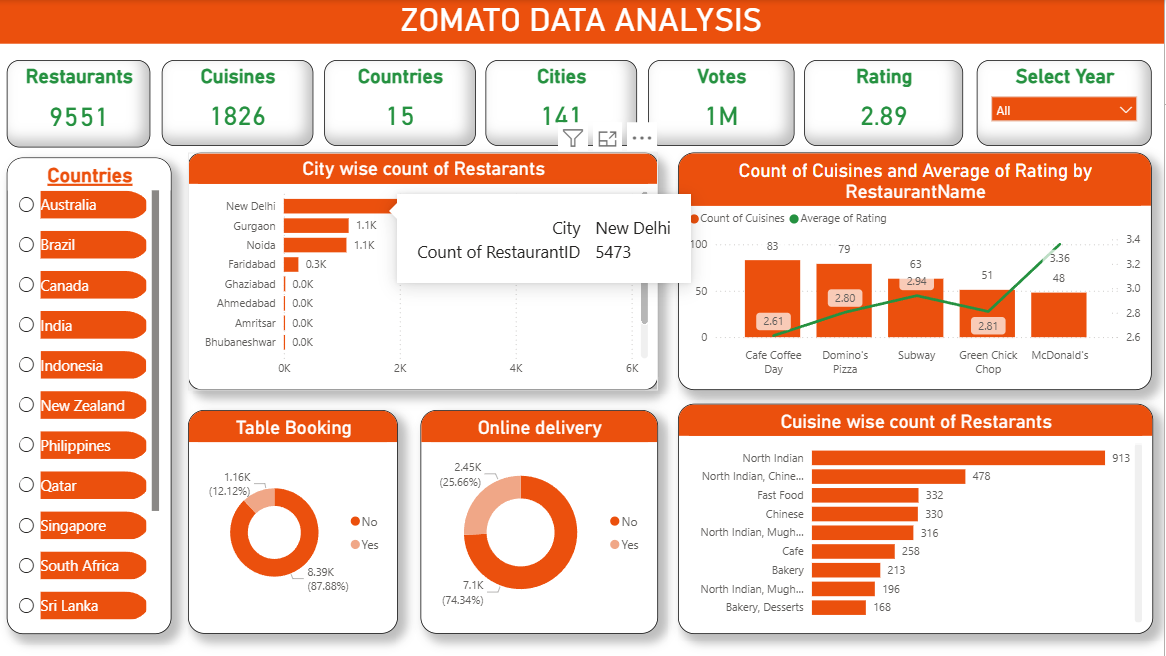

The page's visual inventory and layout, read from the dashboard file:
{"tool":"powerbi","page":{"name":"Page 1","canvas":[1280,720],"ordinal":0},"visuals":[{"type":"textbox","title":"ZOMATO DATA ANALYSIS","box":[0,0,1280.3,48],"z":0},{"type":"card","title":"Restaurants","fields":{"Values":["CountNonNull(Sheet1.RestaurantID)"]},"box":[9.6,65.9,157.8,96.1],"z":1000},{"type":"card","title":"Cuisines","fields":{"Values":["Count(Sheet1.Cuisines)"]},"box":[179.8,65.9,166,94.7],"z":2000},{"type":"card","title":"Countries","fields":{"Values":["Count(Sheet1.CountryCode)"]},"box":[358.1,65.9,166,94.7],"z":3000},{"type":"card","title":"Cities","fields":{"Values":["Count(Sheet1.City)"]},"box":[535.2,65.9,166,94.7],"z":4000},{"type":"card","title":"Votes","fields":{"Values":["Sum(Sheet1.Votes)"]},"box":[713.6,65.9,160.5,94.7],"z":5000},{"type":"card","title":"Rating","fields":{"Values":["Avg(Sheet1.Rating)"]},"box":[885.1,65.9,174.3,94.7],"z":6000},{"type":"slicer","title":"Select Year","fields":{"Values":["Sheet1.Datekey_Opening.Variation.Date Hierarchy.Year"]},"box":[1074.4,65.9,192.1,94.7],"z":7000},{"type":"listSlicer","title":"Countries","fields":{"Values":["Sheet2.country name"]},"box":[9.6,172.9,181.1,547.5],"z":8000},{"type":"barChart","title":"City wise count of Restarants","fields":{"Category":["Sheet1.City"],"Y":["CountNonNull(Sheet1.RestaurantID)"]},"box":[208.6,167.4,516,260.7],"z":9000},{"type":"lineStackedColumnComboChart","fields":{"Category":["Sheet1.RestaurantName"],"Y":["CountNonNull(Sheet1.Cuisines)"],"Y2":["Avg(Sheet1.Rating)"]},"box":[746.5,167.4,520.1,260.7],"z":10000},{"type":"donutChart","title":"Table Booking","fields":{"Category":["Sheet1.Has_Table_booking"],"Y":["CountNonNull(Sheet1.Has_Table_booking)"]},"box":[208.6,450.1,230.5,245.6],"z":11000},{"type":"donutChart","title":"Online delivery","fields":{"Category":["Sheet1.Has_Online_delivery"],"Y":["CountNonNull(Sheet1.Has_Online_delivery)"]},"box":[463.8,450.1,260.7,245.6],"z":12000},{"type":"barChart","title":"Cuisine wise count of Restarants","fields":{"Y":["CountNonNull(Sheet1.RestaurantID)"],"Category":["Sheet1.Cuisines"]},"box":[746.5,443.2,521.4,252.5],"z":13000}]}

Visuals, with their boxes in screenshot pixels (x1, y1, x2, y2), scaled from the page's 1280x720 canvas onto the 1166x656 screenshot:
"ZOMATO DATA ANALYSIS" textbox: {"left": 0, "top": 0, "right": 1165, "bottom": 44}
"Restaurants" card: {"left": 9, "top": 60, "right": 152, "bottom": 148}
"Cuisines" card: {"left": 164, "top": 60, "right": 315, "bottom": 146}
"Countries" card: {"left": 326, "top": 60, "right": 477, "bottom": 146}
"Cities" card: {"left": 488, "top": 60, "right": 639, "bottom": 146}
"Votes" card: {"left": 650, "top": 60, "right": 796, "bottom": 146}
"Rating" card: {"left": 806, "top": 60, "right": 965, "bottom": 146}
"Select Year" slicer: {"left": 979, "top": 60, "right": 1154, "bottom": 146}
"Countries" listSlicer: {"left": 9, "top": 158, "right": 174, "bottom": 655}
"City wise count of Restarants" barChart: {"left": 190, "top": 153, "right": 660, "bottom": 390}
lineStackedColumnComboChart - Sheet1.RestaurantName x CountNonNull(Sheet1.Cuisines): {"left": 680, "top": 153, "right": 1154, "bottom": 390}
"Table Booking" donutChart: {"left": 190, "top": 410, "right": 400, "bottom": 634}
"Online delivery" donutChart: {"left": 422, "top": 410, "right": 660, "bottom": 634}
"Cuisine wise count of Restarants" barChart: {"left": 680, "top": 404, "right": 1155, "bottom": 634}
